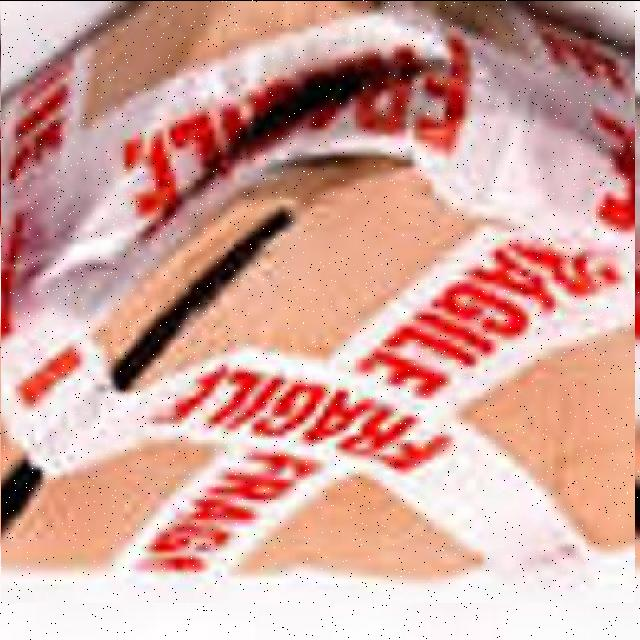defect: (2, 0, 636, 602)
